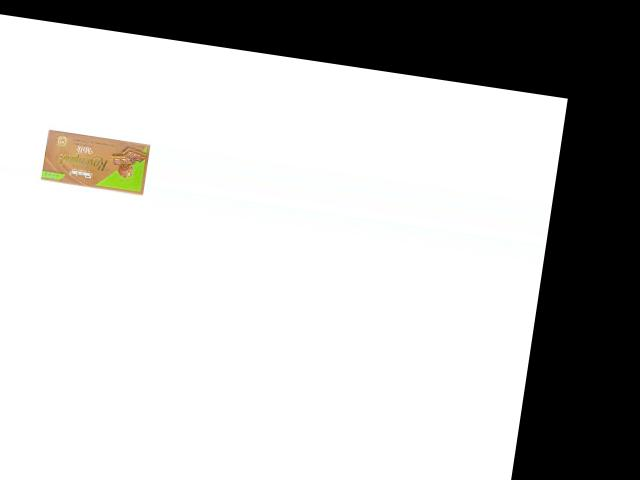chocolate: (36, 126, 151, 199)
